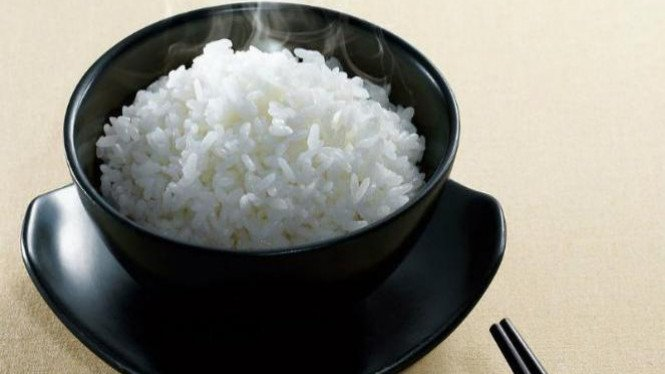Nasi Putih: (37, 32, 448, 281)
